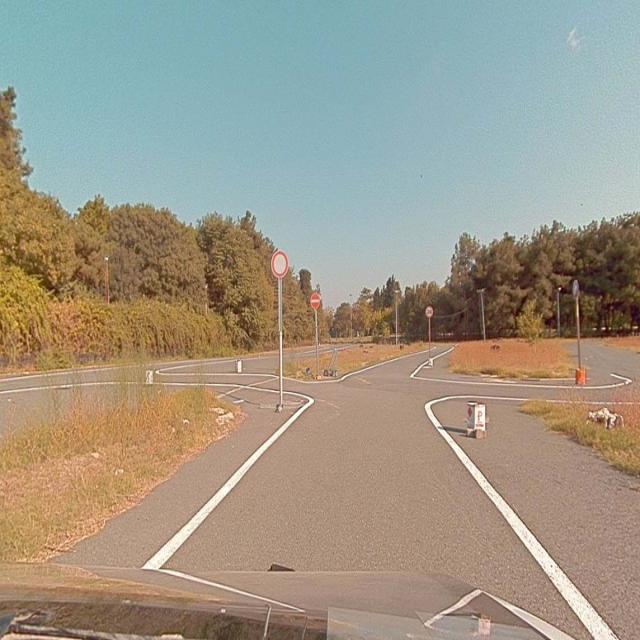girisyok: (311, 294, 320, 308)
